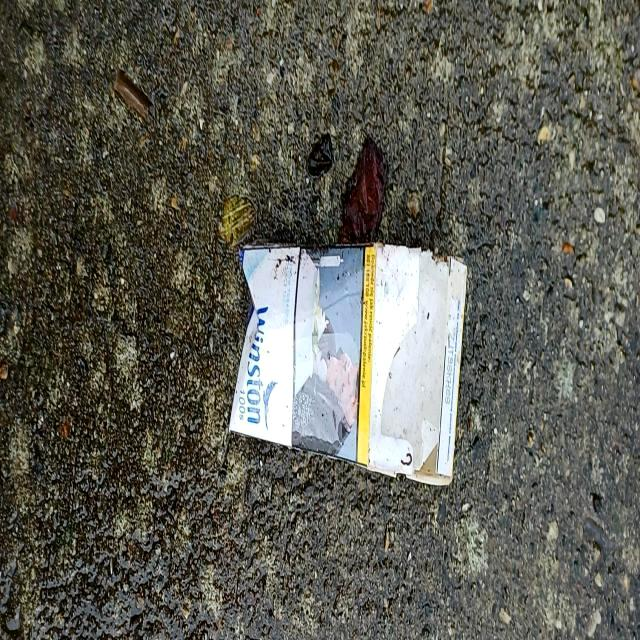Paper: (227, 236, 469, 490)
